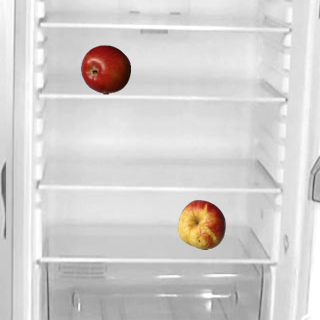Apple Braeburn: (80, 44, 130, 94)
Apple Red Yellow 1: (176, 199, 226, 249)
